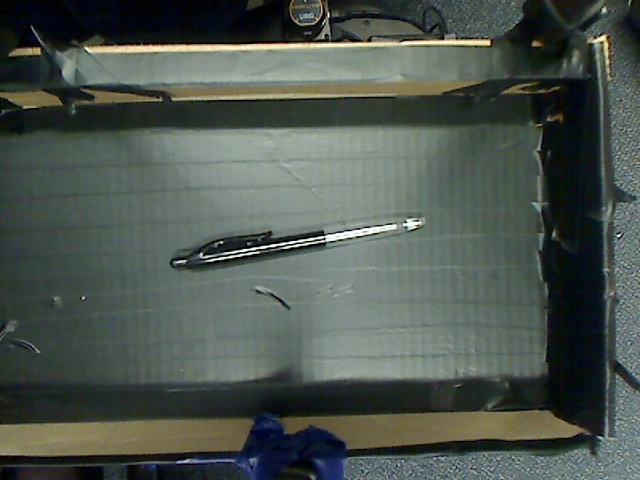pen: (165, 194, 434, 284)
